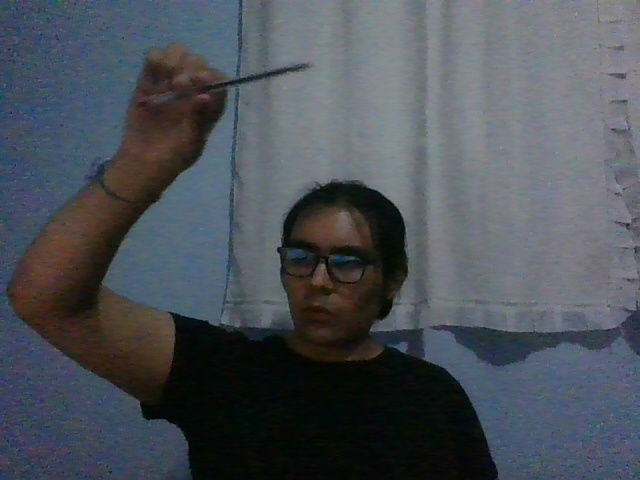pluma: (137, 62, 314, 106)
